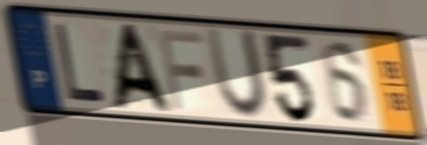5: (259, 30, 318, 125)
6: (319, 39, 373, 126)
A: (107, 21, 176, 115)
F: (155, 26, 206, 113)
L: (51, 20, 109, 104)
U: (203, 24, 271, 123)
